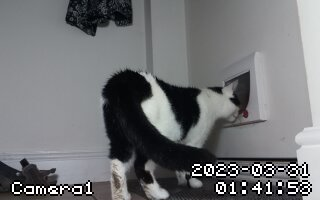bad: (97, 62, 249, 195)
